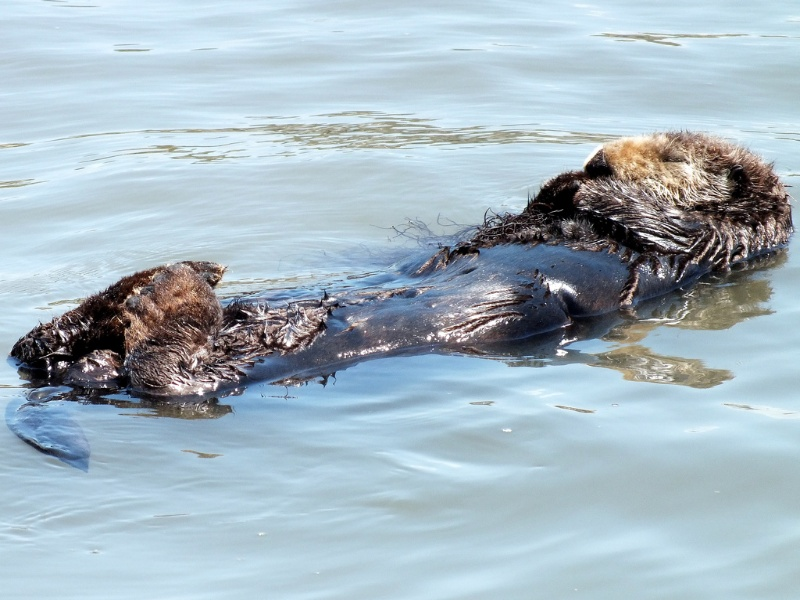minkish: (2, 133, 793, 462)
